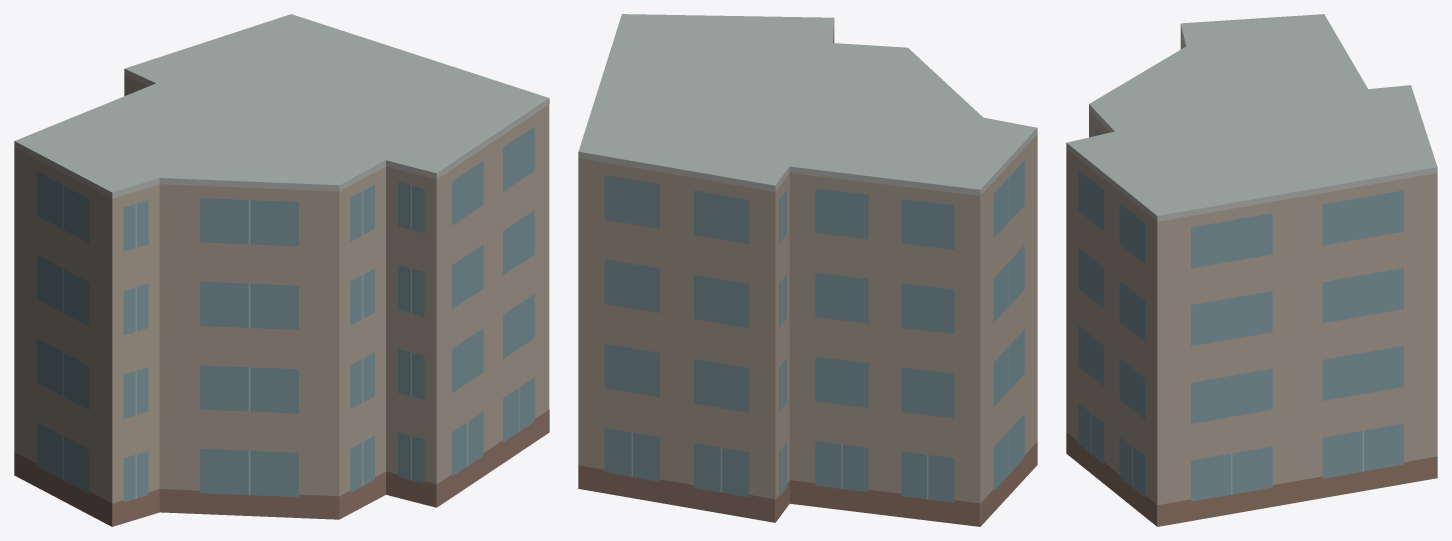
Rendered from survey-upis-32642054.glb.
3 renders of one model, left to right at view 1: azimuth 30°, elevation 25°; view 2: azimuth 150°, elevation 25°; view 3: azimuth 270°, elevation 25°, orthographic. The views are drawn at different scales.
Visible parts, largest first — view 1: survey-upis-32642054.tmp; view 2: survey-upis-32642054.tmp; view 3: survey-upis-32642054.tmp.
Boxes of the visible parts, <box> form: survey-upis-32642054.tmp: <box>14,14,549,526</box>; survey-upis-32642054.tmp: <box>578,14,1037,526</box>; survey-upis-32642054.tmp: <box>1066,14,1437,526</box>.
Bounding box in the file's own units: 18.13 × 13 × 14.08.
